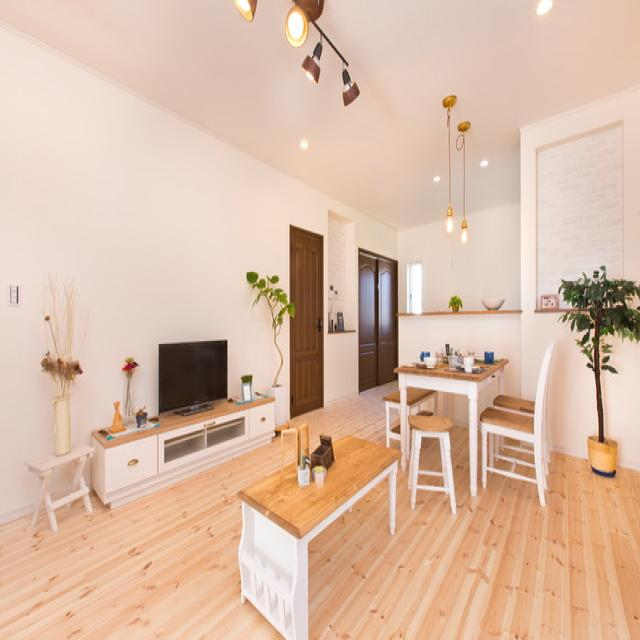natural chair: (480, 344, 559, 511)
natural desk: (238, 435, 404, 639), (391, 343, 506, 490)
natural shelf: (90, 385, 232, 505)
